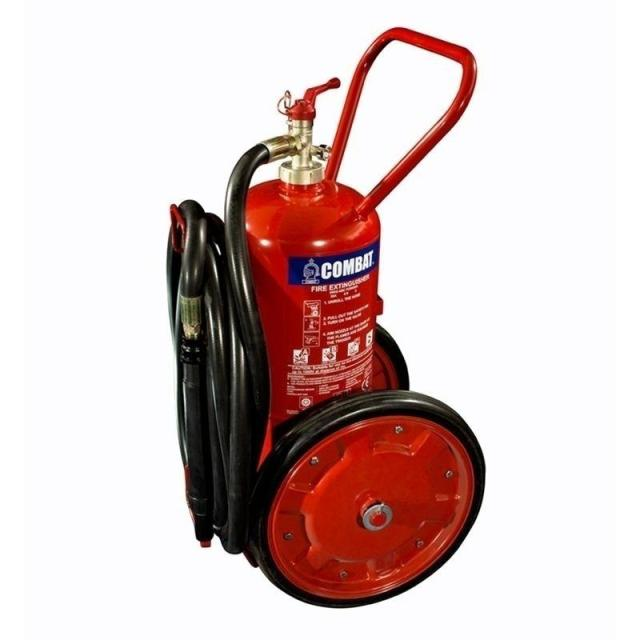fire_extinguisher: (158, 69, 390, 587)
